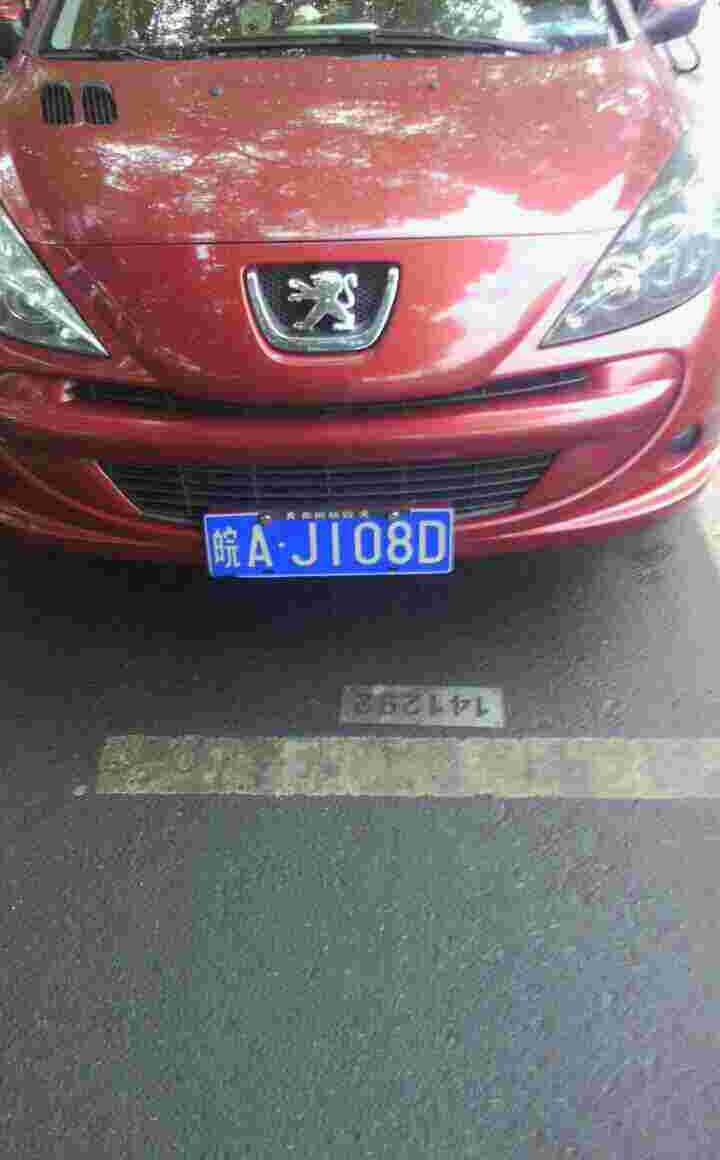license_plate: (201, 506, 464, 583)
